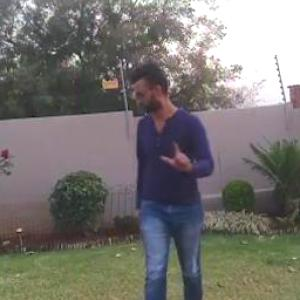land_hand: (158, 136, 196, 171)
